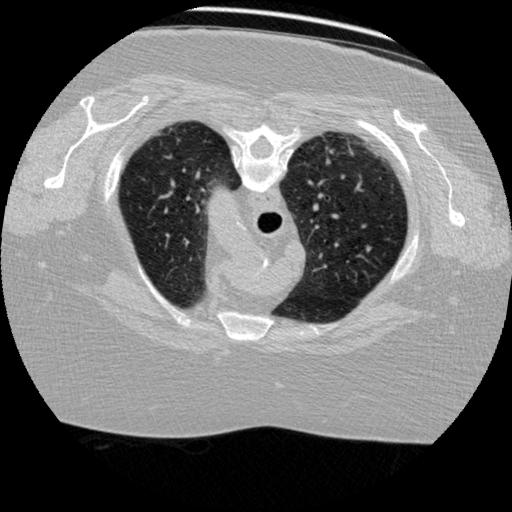nodule: (364, 244, 376, 256)
